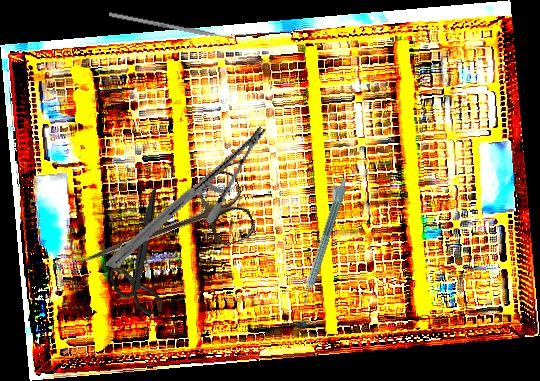Handpiece: (294, 174, 350, 307)
Iris Scissors: (73, 165, 259, 298), (83, 187, 203, 324)
Needle Holder: (105, 94, 268, 301)
Pusher: (108, 11, 245, 44)
